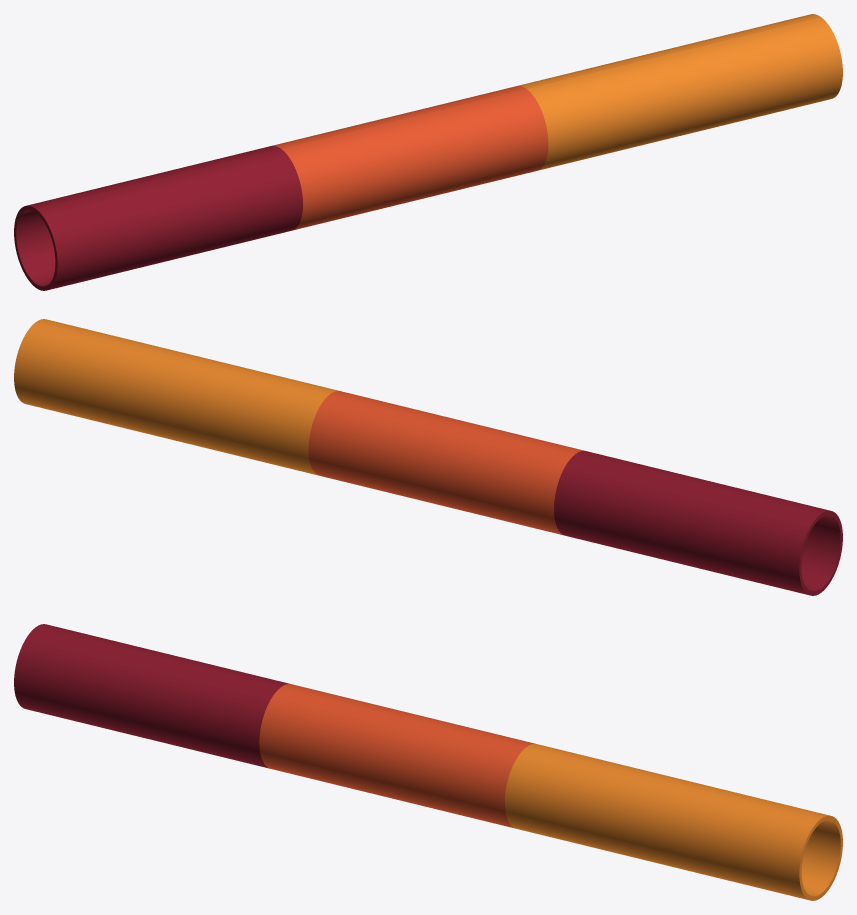
Rendered from double_pipe_heat_exchanger_temperature.glb.
3 views of the same model, one above another, from view 1: azimuth 30°, elevation 25°; view 2: azimuth 150°, elevation 25°; view 3: azimuth 330°, elevation 25° (orthographic).
Parts seen in each view (by area): view 1: temperature__front, temperature__back; view 2: temperature__back, temperature__front; view 3: temperature__front, temperature__back.
Part boxes in pixels (box(x1,y1,x2,y2)): temperature__front: box(35, 17, 842, 290); temperature__back: box(14, 14, 820, 287); temperature__back: box(14, 322, 821, 595); temperature__front: box(36, 319, 842, 592); temperature__front: box(14, 627, 821, 900); temperature__back: box(36, 624, 842, 897).
Size of the model in its own units: 1.6 by 0.154 by 0.154.
